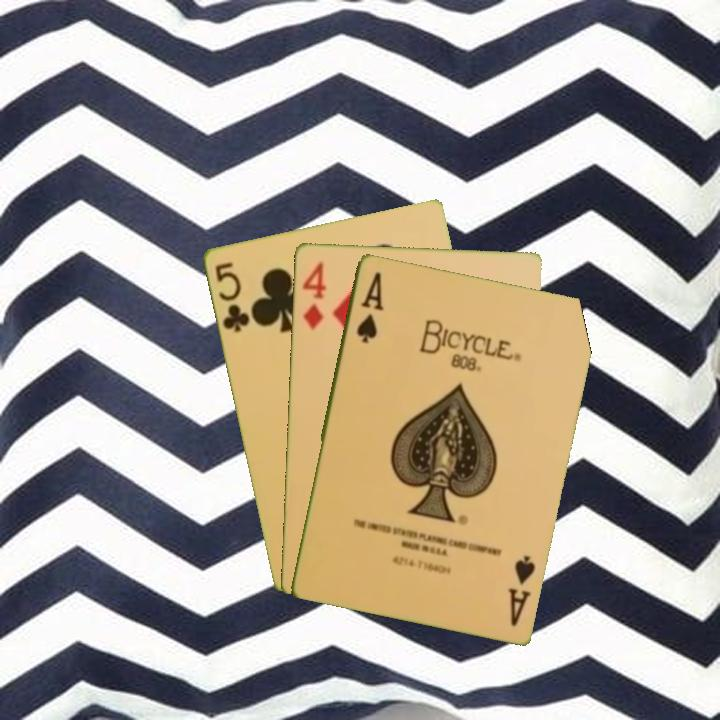4d: (298, 258, 329, 333)
5c: (210, 258, 252, 335)
As: (352, 267, 386, 346), (504, 551, 538, 629)
